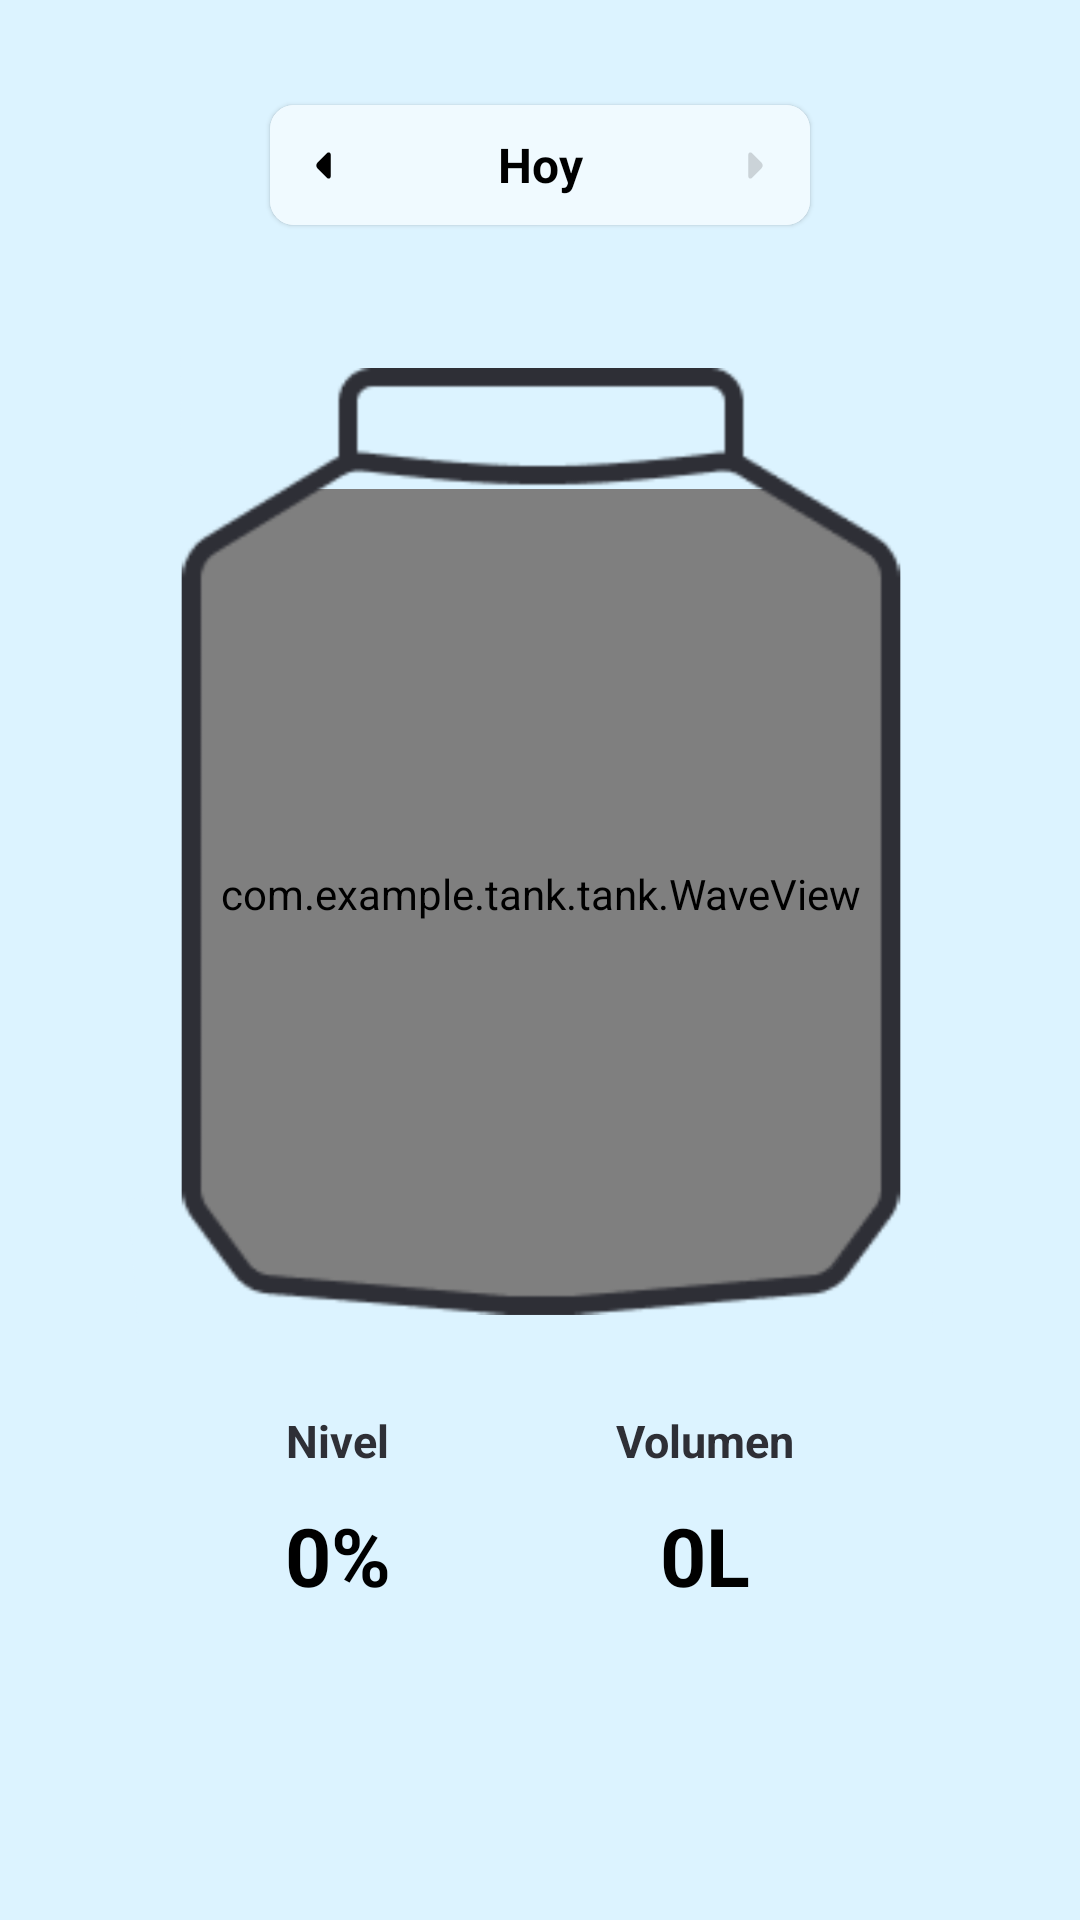

Icons on this 1080px x 1920px Android screen, each with the point to tap as point (x, y):
arrow left: point (323, 165)
arrow right: point (755, 165)
